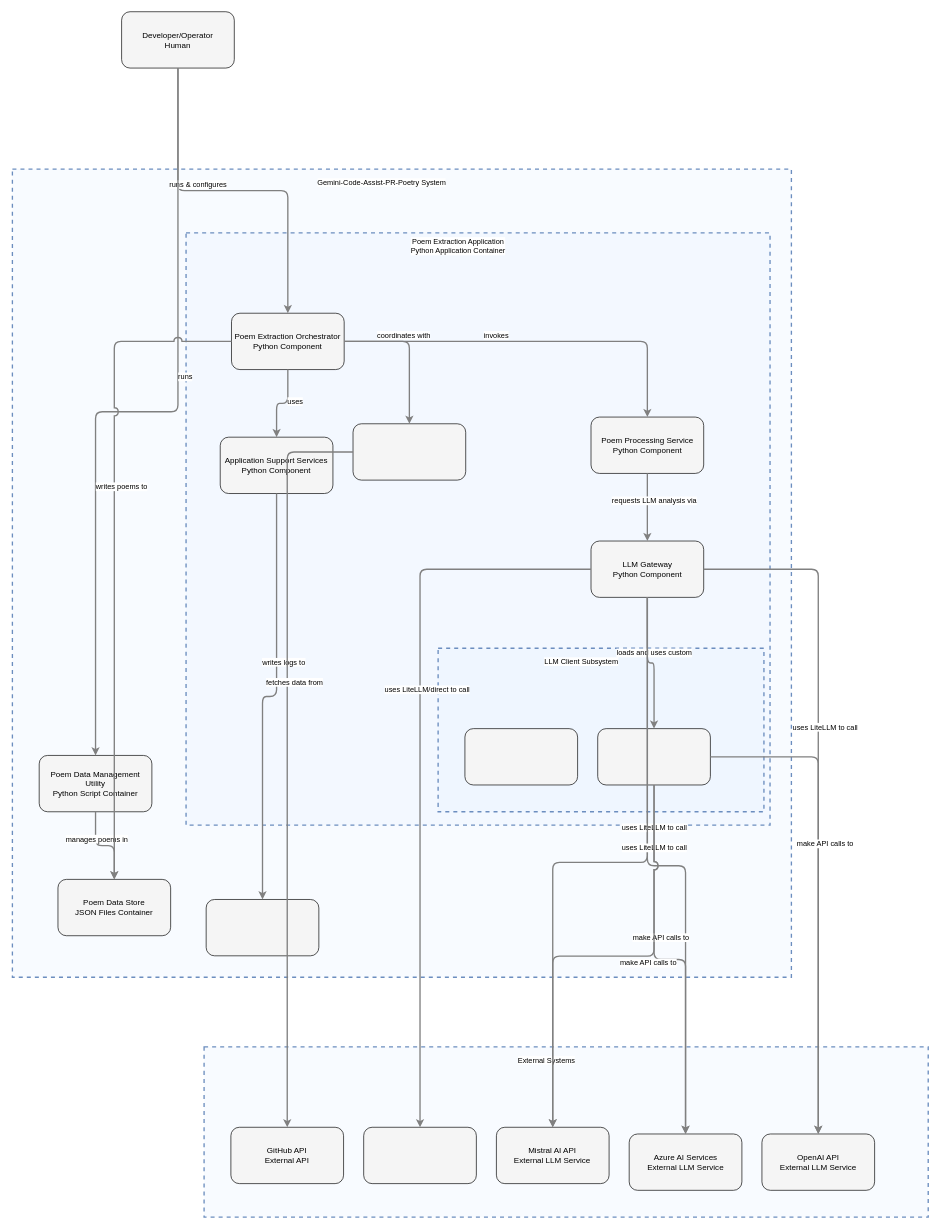
The diagram is 940 pixels wide and 1229 high, and some of its shapes have lost their labels. Here are the shapes that lost their labels. From the top down, the box of each, then its label:
(352, 423, 466, 480): GitHub Interaction Service Python Component
(464, 728, 578, 785): LLM Client Framework Base Python Component
(597, 728, 710, 785): Specific LLM Client Implementations Python Component
(205, 899, 319, 956): Log Data Store Log Files Container
(363, 1127, 476, 1184): Ollama Service (Optional) Local LLM Service
